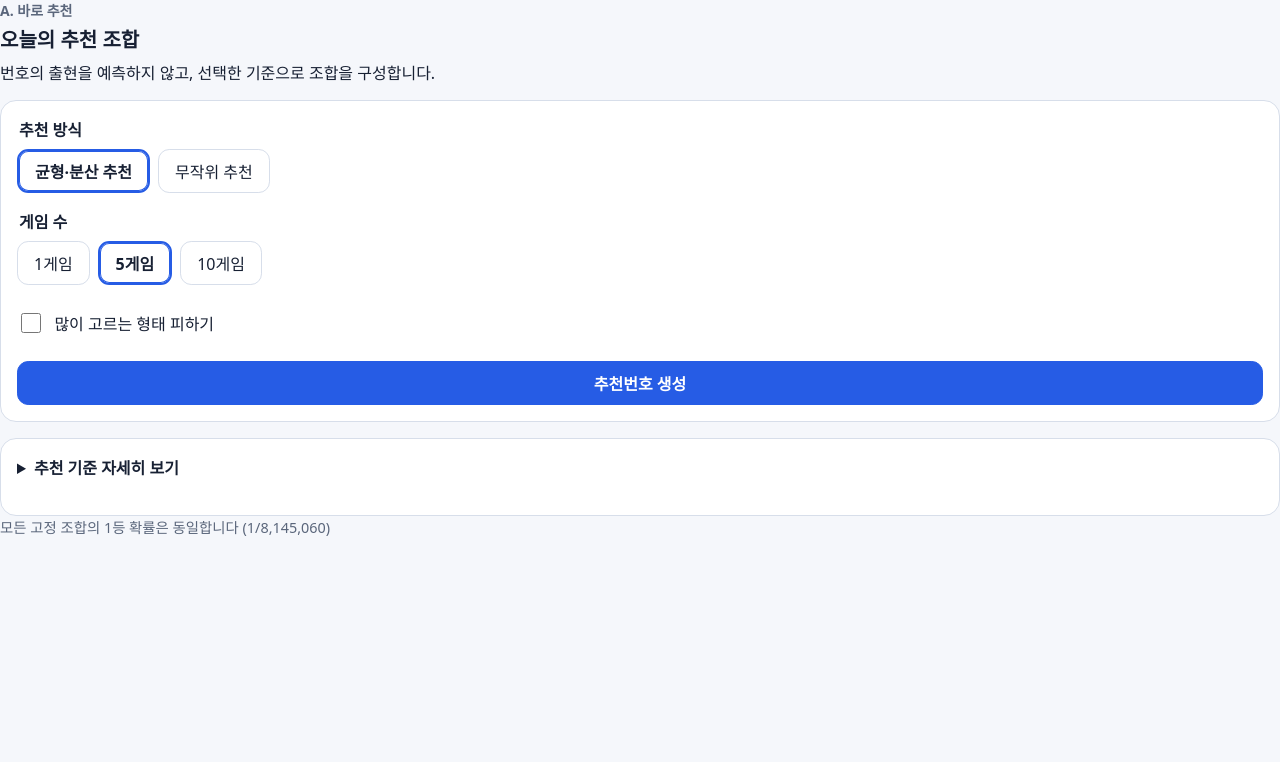
Test: uses clipboard for result sharing only when Web Share is unavailable
The image size is (1280, 762).
Click the button "추천번호 생성".
click(640, 383)  # box x1=17 y1=361 x2=1263 y2=405
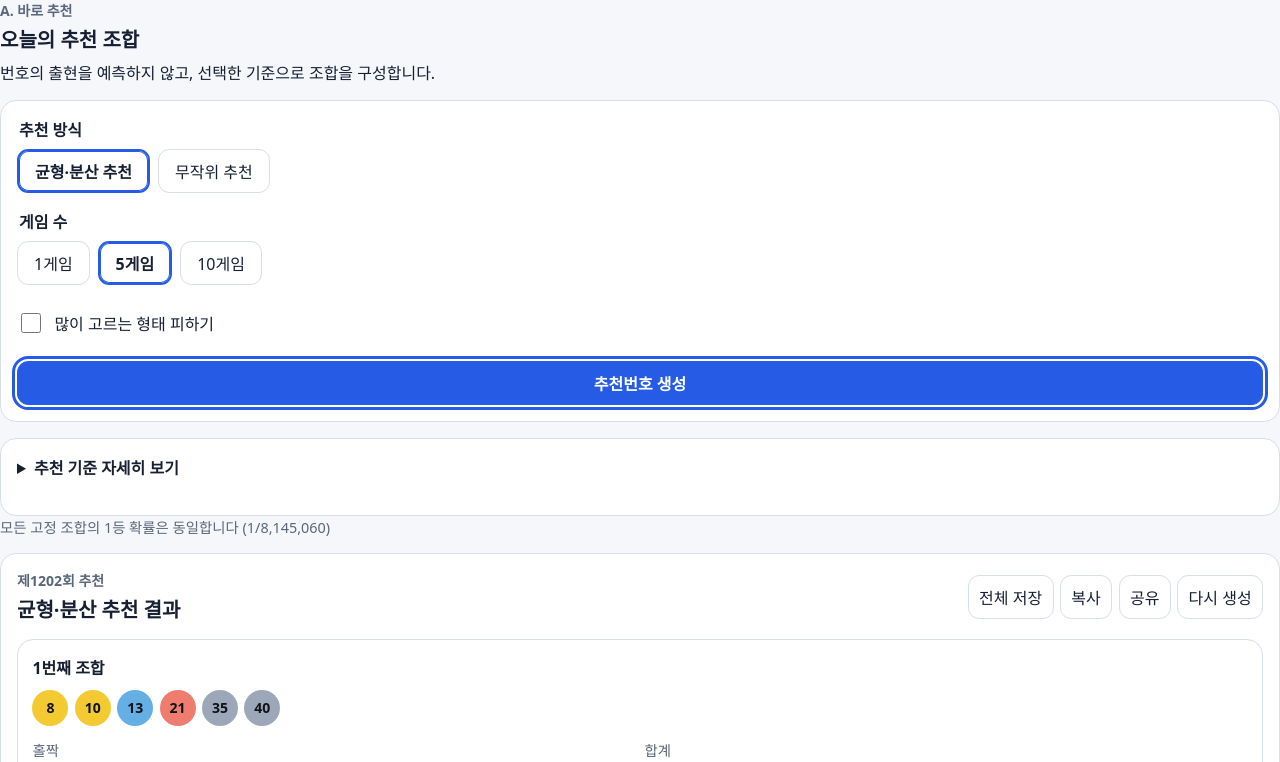
Click the button "공유".
click(1145, 597)  # box x1=1118 y1=575 x2=1171 y2=619
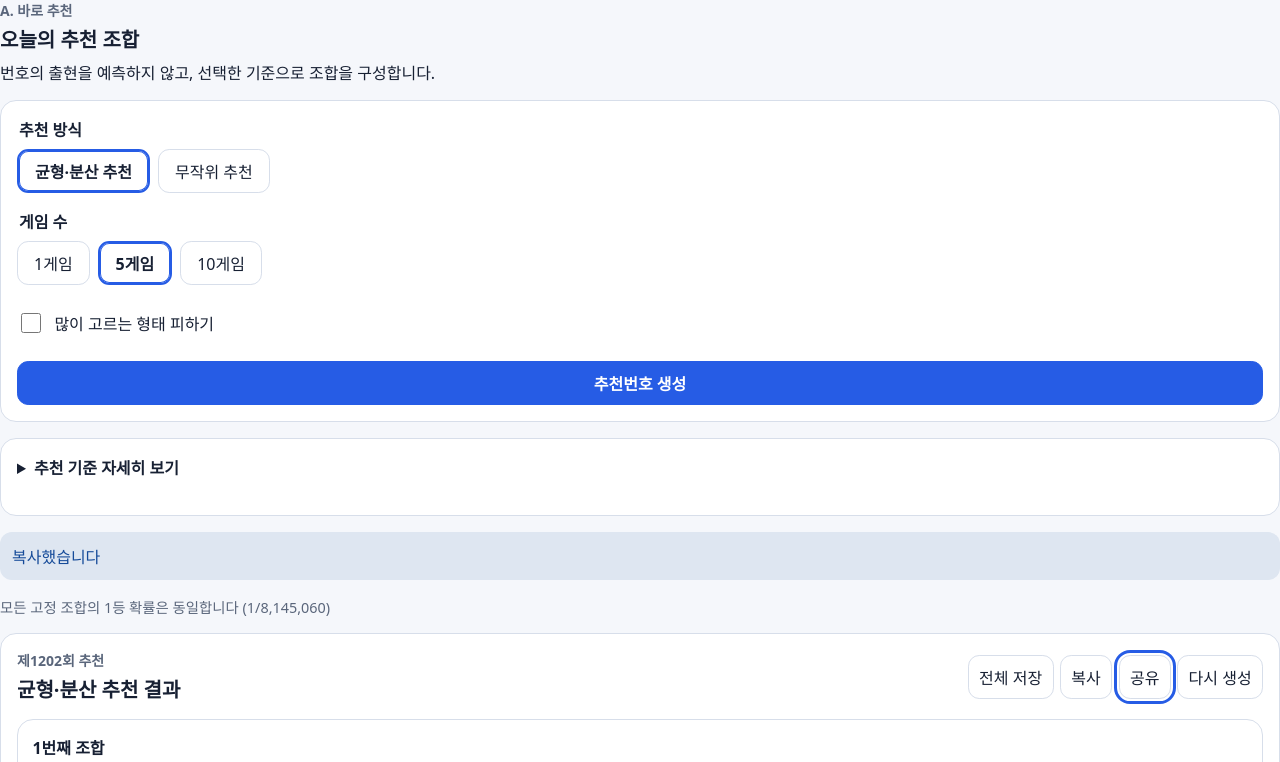
Expected: the text "복사했습니다" is shown, x1=0 y1=532 x2=1279 y2=580
